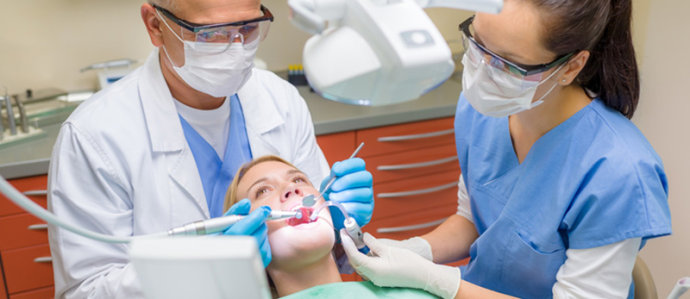mask: (459, 50, 548, 117), (171, 39, 263, 97)
